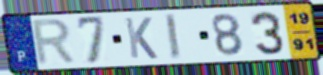3: (249, 10, 286, 56)
7: (75, 15, 107, 67)
8: (210, 12, 245, 57)
I: (163, 12, 183, 62)
K: (123, 16, 160, 60)
R: (30, 17, 79, 68)
